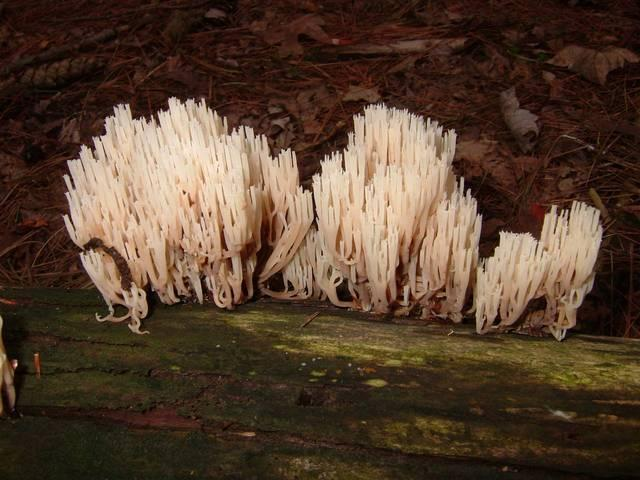edible_mushroom: (60, 95, 313, 335), (310, 101, 482, 322), (471, 199, 603, 341), (0, 314, 19, 419)
